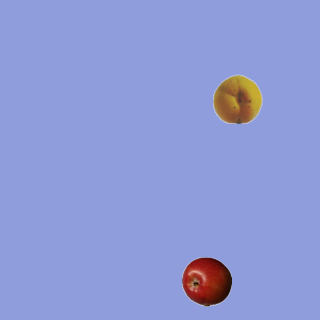Apple Braeburn: (181, 256, 231, 306)
Peach 2: (212, 73, 262, 123)
